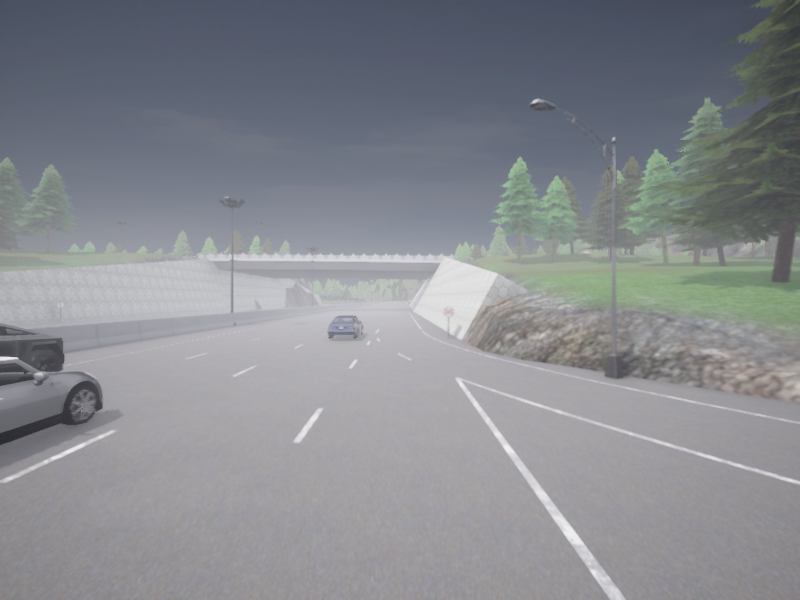vehicle: (0, 357, 102, 444), (0, 323, 64, 371), (328, 315, 363, 338)
